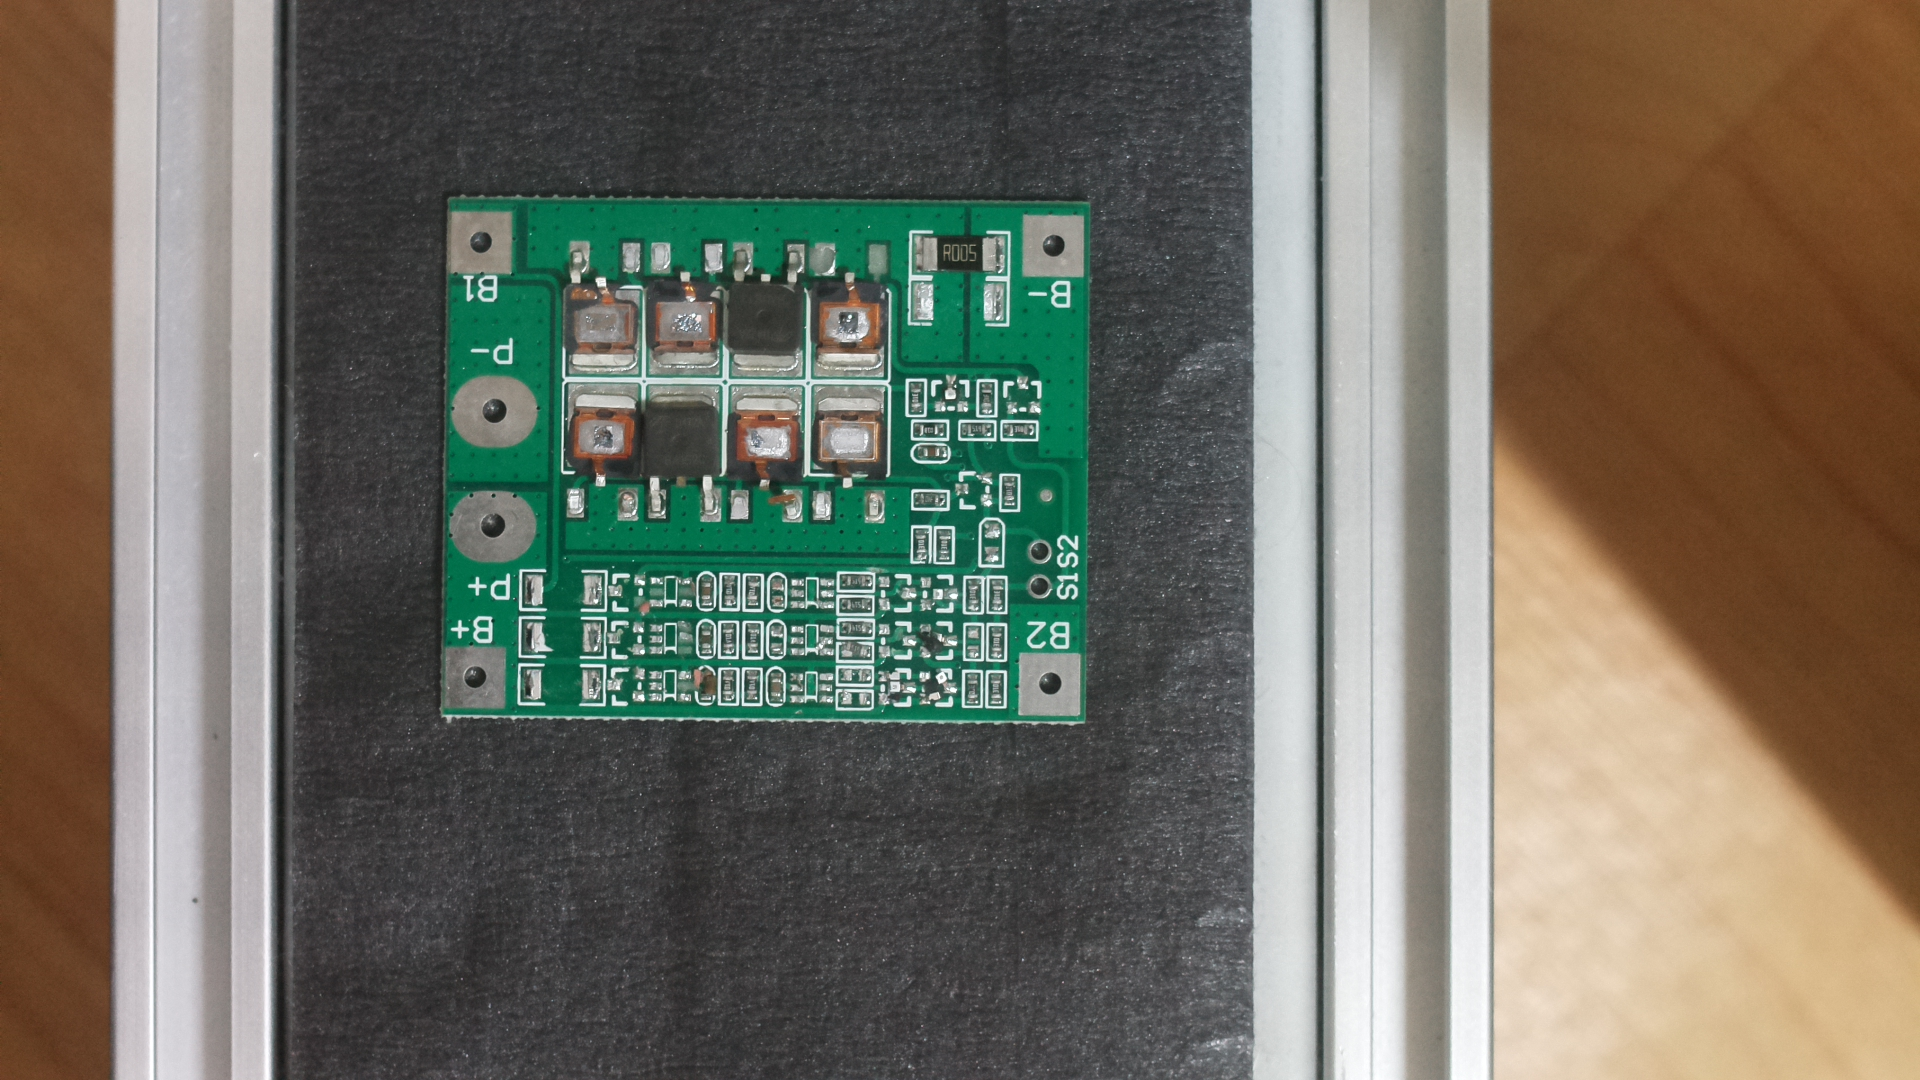C_Missing_part: (418, 177, 1102, 750)
